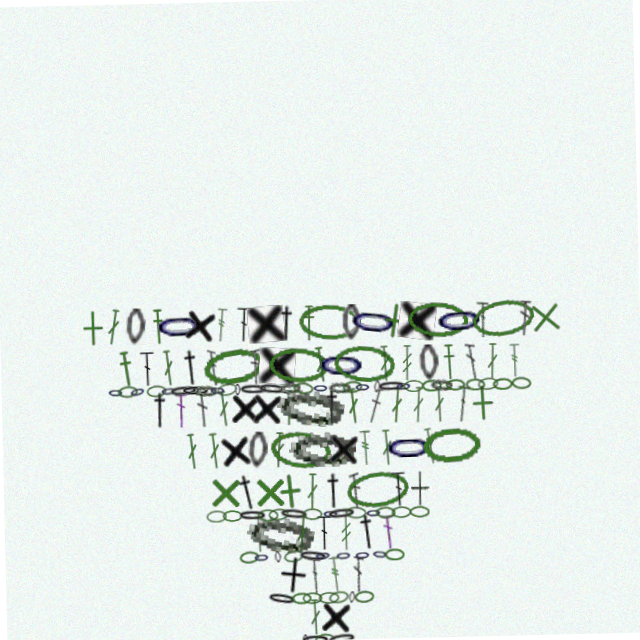chain: (240, 511, 311, 555), (273, 385, 344, 429), (470, 300, 536, 345), (265, 427, 331, 471), (200, 343, 265, 387), (341, 470, 406, 512), (331, 344, 395, 385), (266, 345, 329, 385), (286, 430, 353, 467), (298, 303, 361, 342), (406, 303, 469, 342), (418, 429, 480, 468), (347, 302, 400, 343), (315, 346, 366, 384), (434, 304, 485, 342), (154, 304, 204, 341), (381, 431, 431, 467), (244, 430, 266, 467), (125, 304, 146, 341), (418, 347, 438, 383), (342, 305, 361, 341), (260, 590, 291, 606), (274, 506, 305, 521), (292, 549, 323, 563), (255, 381, 286, 395), (322, 507, 352, 521), (167, 381, 197, 395), (233, 508, 263, 520), (179, 382, 209, 394), (237, 382, 267, 394), (375, 382, 405, 394), (322, 590, 343, 605), (278, 548, 299, 563), (215, 380, 236, 395), (291, 381, 312, 395), (277, 381, 299, 394), (429, 381, 451, 394), (341, 507, 362, 520), (476, 381, 497, 394), (127, 380, 145, 395), (193, 382, 215, 394), (327, 382, 349, 394), (348, 591, 368, 604), (234, 549, 254, 562), (264, 507, 284, 520), (116, 381, 136, 394), (145, 381, 165, 394), (341, 381, 361, 394), (510, 381, 530, 394), (312, 592, 333, 604), (253, 508, 274, 520), (319, 632, 350, 640), (285, 592, 305, 604), (296, 592, 316, 604), (379, 550, 399, 562), (202, 508, 222, 520), (218, 508, 238, 520), (298, 508, 318, 520), (371, 508, 391, 520), (387, 508, 407, 520), (405, 508, 425, 520), (402, 382, 422, 394), (420, 382, 440, 394), (444, 382, 464, 394), (464, 382, 484, 394), (491, 382, 511, 394), (309, 549, 326, 562), (366, 549, 383, 562), (159, 381, 175, 394), (248, 550, 264, 562), (330, 550, 346, 562), (349, 550, 365, 562), (318, 508, 334, 520), (361, 508, 377, 520), (106, 382, 122, 394), (208, 382, 224, 394), (311, 382, 327, 394), (353, 382, 369, 394), (394, 382, 410, 394), (293, 634, 323, 640), (307, 633, 328, 640), (342, 592, 349, 604), (269, 550, 276, 562), (372, 382, 379, 394), (233, 382, 239, 394), (295, 634, 301, 640)
double: (451, 388, 469, 425), (419, 430, 436, 467), (365, 388, 382, 425), (105, 304, 122, 341), (214, 388, 230, 425), (312, 346, 328, 383), (387, 473, 403, 509), (236, 305, 252, 341), (182, 430, 197, 467), (204, 430, 219, 467), (344, 388, 359, 425), (160, 346, 175, 383), (290, 515, 305, 551), (312, 515, 327, 551), (376, 515, 391, 551), (139, 347, 154, 383), (302, 557, 316, 593), (269, 431, 283, 467), (377, 431, 391, 467), (194, 389, 208, 425), (388, 389, 402, 425), (377, 347, 391, 383), (475, 305, 489, 341), (518, 305, 532, 341), (302, 599, 315, 635), (248, 515, 261, 551), (302, 473, 315, 509), (345, 473, 358, 509), (410, 389, 423, 425), (431, 389, 444, 425), (464, 347, 477, 383), (485, 347, 498, 383), (346, 557, 358, 593), (173, 389, 185, 425), (281, 389, 293, 425), (206, 347, 218, 383), (249, 347, 260, 383)
half_double: (230, 471, 257, 510), (351, 514, 374, 551), (275, 304, 298, 341), (147, 388, 169, 425), (179, 346, 201, 383), (319, 389, 341, 425), (319, 473, 340, 509), (116, 346, 134, 383), (441, 347, 456, 383), (151, 305, 165, 341), (302, 305, 316, 341)
single: (374, 302, 415, 343), (397, 303, 437, 343), (181, 302, 220, 343), (267, 471, 306, 510), (526, 303, 565, 342), (257, 346, 295, 384), (247, 304, 285, 342), (215, 429, 251, 468), (203, 472, 240, 509), (462, 388, 499, 425), (323, 430, 359, 468), (312, 598, 347, 636), (248, 388, 283, 426), (248, 473, 284, 509), (75, 305, 111, 341), (227, 388, 261, 425), (271, 555, 303, 594), (407, 473, 426, 509)
treble: (322, 556, 337, 593), (214, 305, 229, 341), (356, 431, 369, 467), (335, 515, 347, 551), (400, 347, 412, 383), (508, 347, 520, 383)
